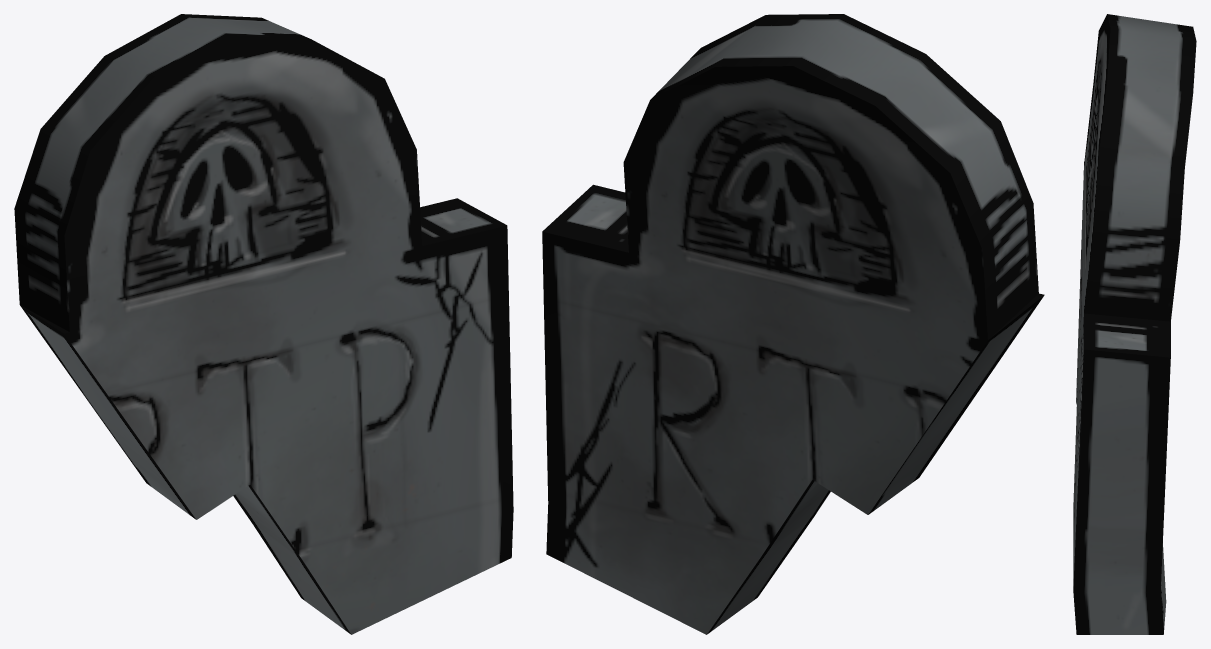
The model's file is tombstone2_gib2.fbx.
3 views of the same model, side by side, from view 1: azimuth 30°, elevation 25°; view 2: azimuth 150°, elevation 25°; view 3: azimuth 270°, elevation 25° (orthographic). The views are drawn at different scales.
Parts seen in each view (by area): view 1: tombstone2_gib2; view 2: tombstone2_gib2; view 3: tombstone2_gib2.
Part boxes in pixels (x1,y1,x2,y2): tombstone2_gib2: (14,14,513,634); tombstone2_gib2: (542,14,1044,634); tombstone2_gib2: (1073,14,1196,634).
Bounding box in the file's own units: 194 × 256 × 53.81.
